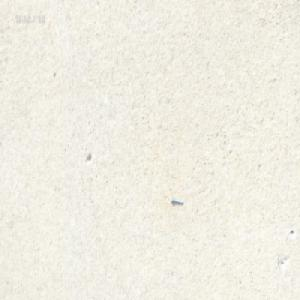Nail: (170, 196, 183, 204)
